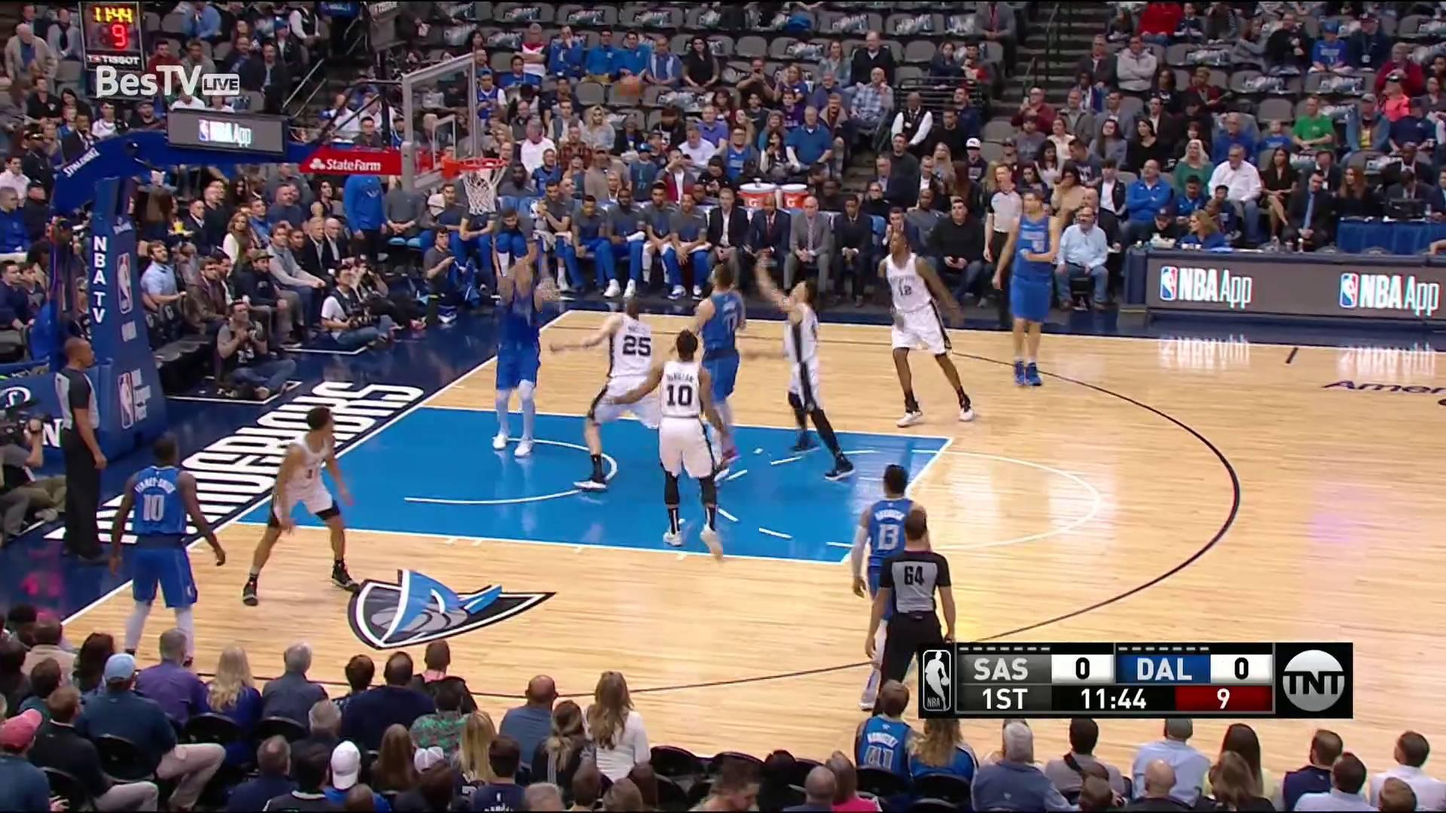basketball: (621, 74, 646, 99)
